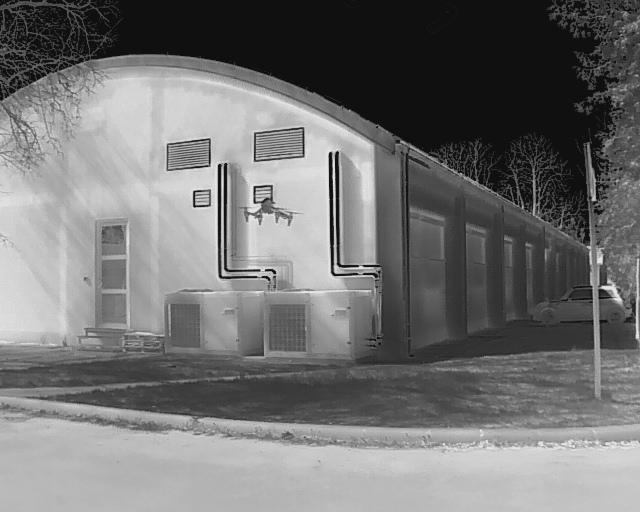drone: (231, 190, 304, 234)
